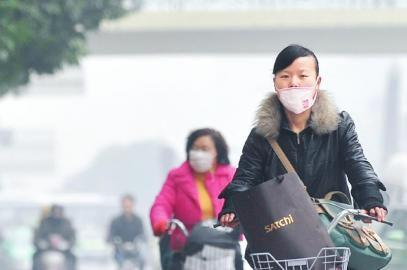OK: (190, 144, 217, 174)
WRONG: (276, 68, 319, 111)
